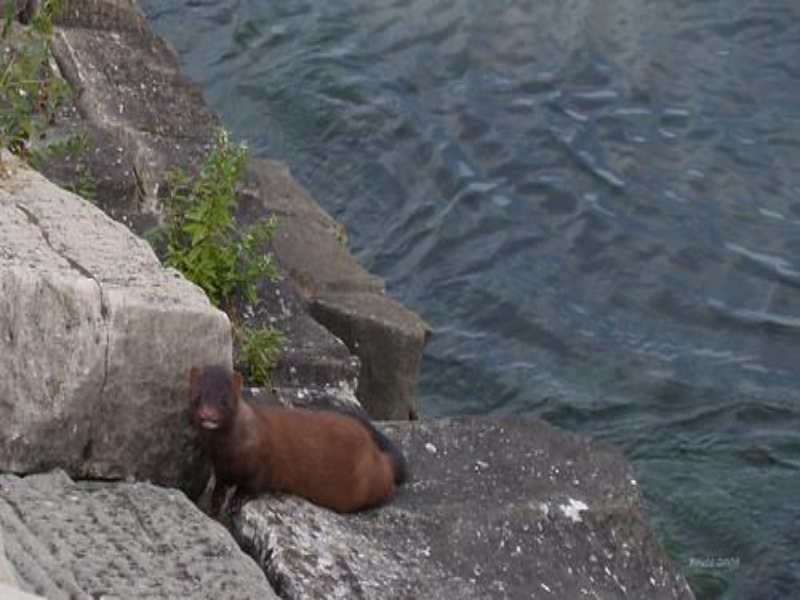minkish: (184, 361, 410, 530)
